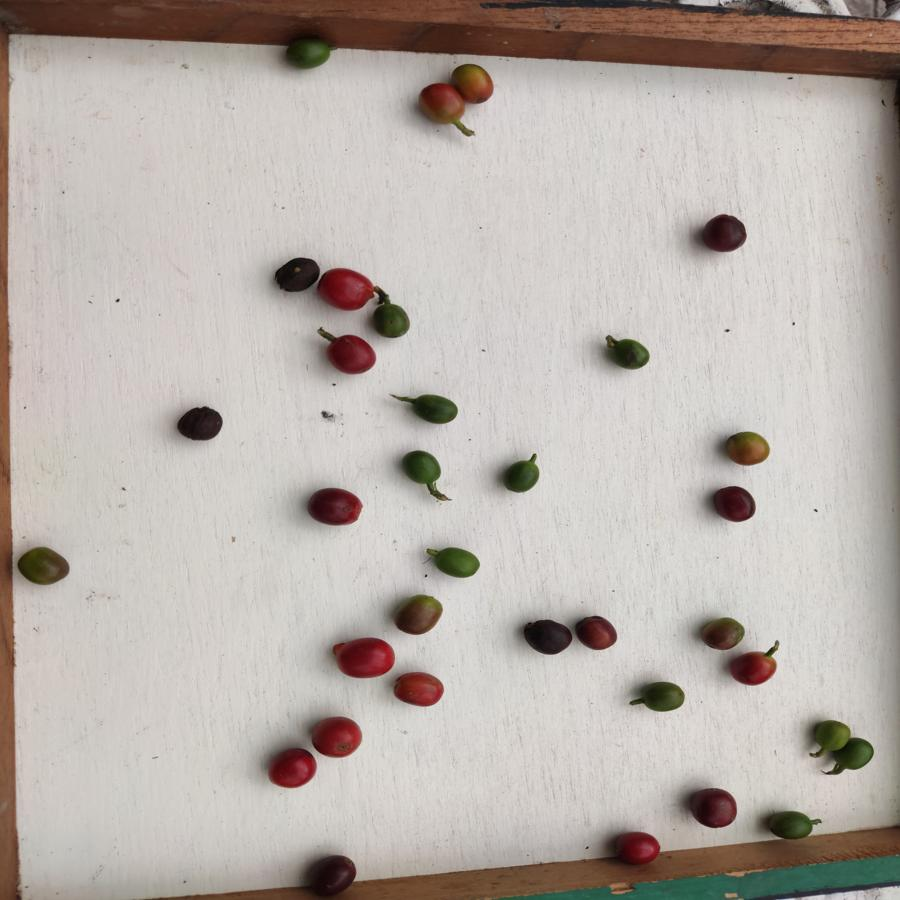Inmaduro: (762, 808, 820, 841), (407, 392, 463, 426), (399, 450, 448, 487), (431, 546, 483, 580), (498, 459, 546, 495), (636, 680, 688, 713), (283, 40, 335, 70), (610, 337, 652, 372), (372, 303, 410, 339), (837, 737, 876, 771), (813, 718, 852, 750)
Maduro: (315, 268, 374, 311), (323, 333, 378, 376), (307, 716, 363, 758), (333, 638, 393, 676), (392, 668, 446, 710), (267, 747, 317, 791), (610, 830, 663, 865), (733, 653, 777, 686)
Pinton: (14, 547, 75, 588), (417, 83, 468, 126), (395, 595, 444, 638), (723, 431, 774, 467), (453, 61, 495, 104), (699, 618, 746, 650)
Sobremaduro: (304, 485, 364, 529), (687, 787, 738, 833), (303, 853, 359, 894), (520, 618, 576, 657), (175, 407, 229, 443), (711, 483, 755, 526), (276, 252, 319, 295), (701, 213, 748, 252), (576, 613, 622, 652)
